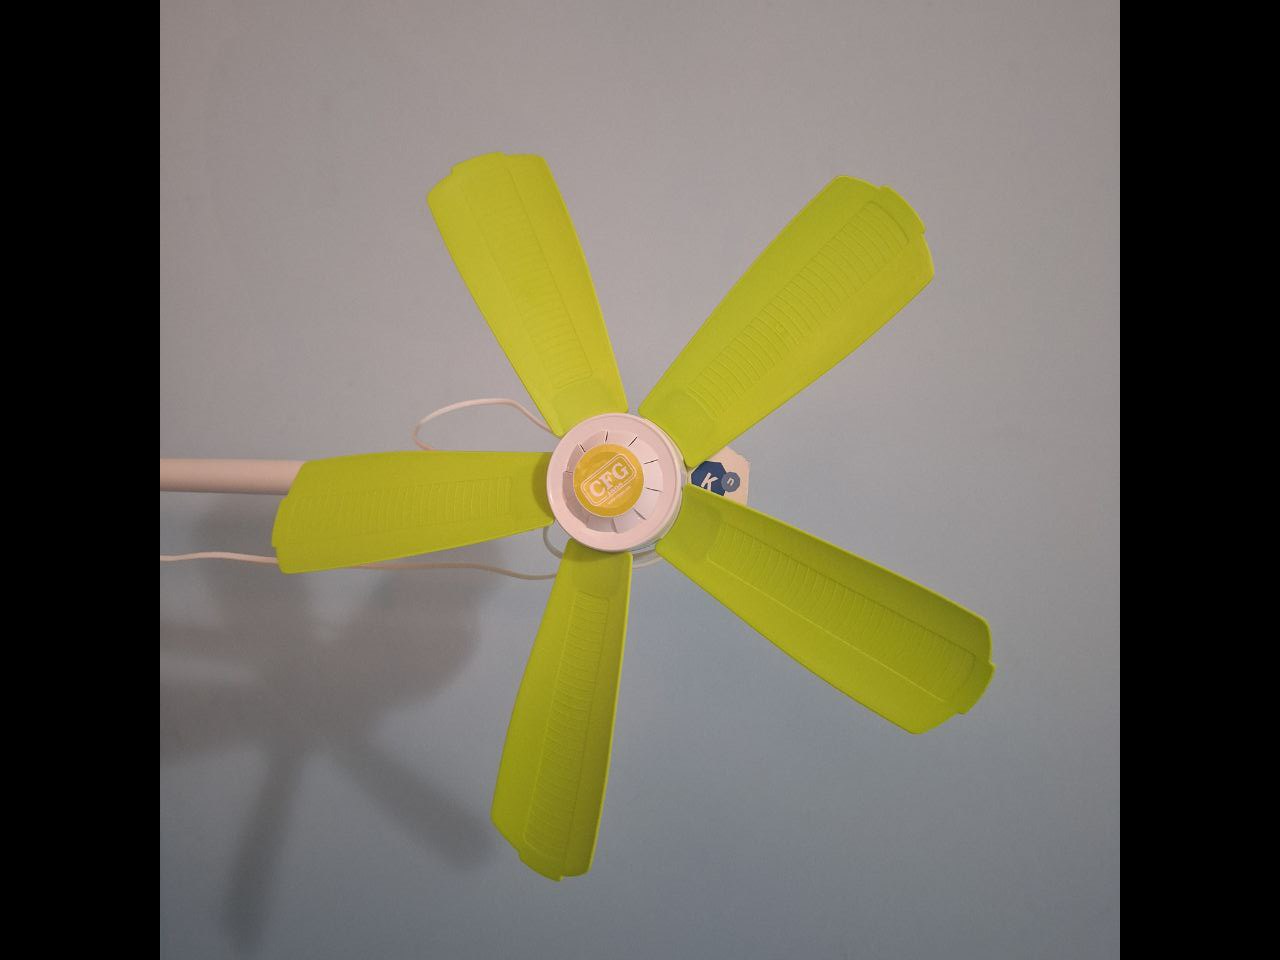knative: (692, 461, 737, 496)
